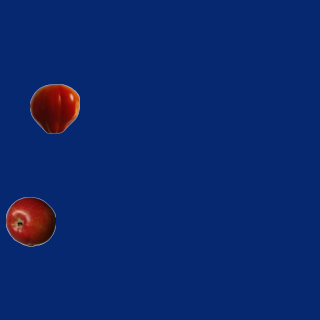Apple Braeburn: (5, 196, 55, 246)
Tomato 1: (29, 83, 79, 133)
